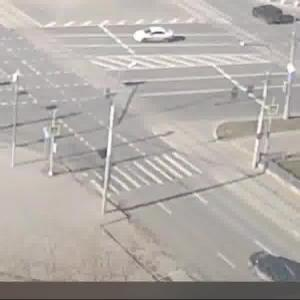car: (252, 251, 295, 283), (133, 22, 178, 49), (253, 5, 289, 28)
